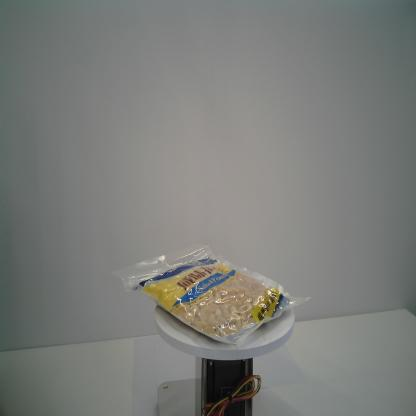Dried Fruit: (115, 245, 312, 346)
